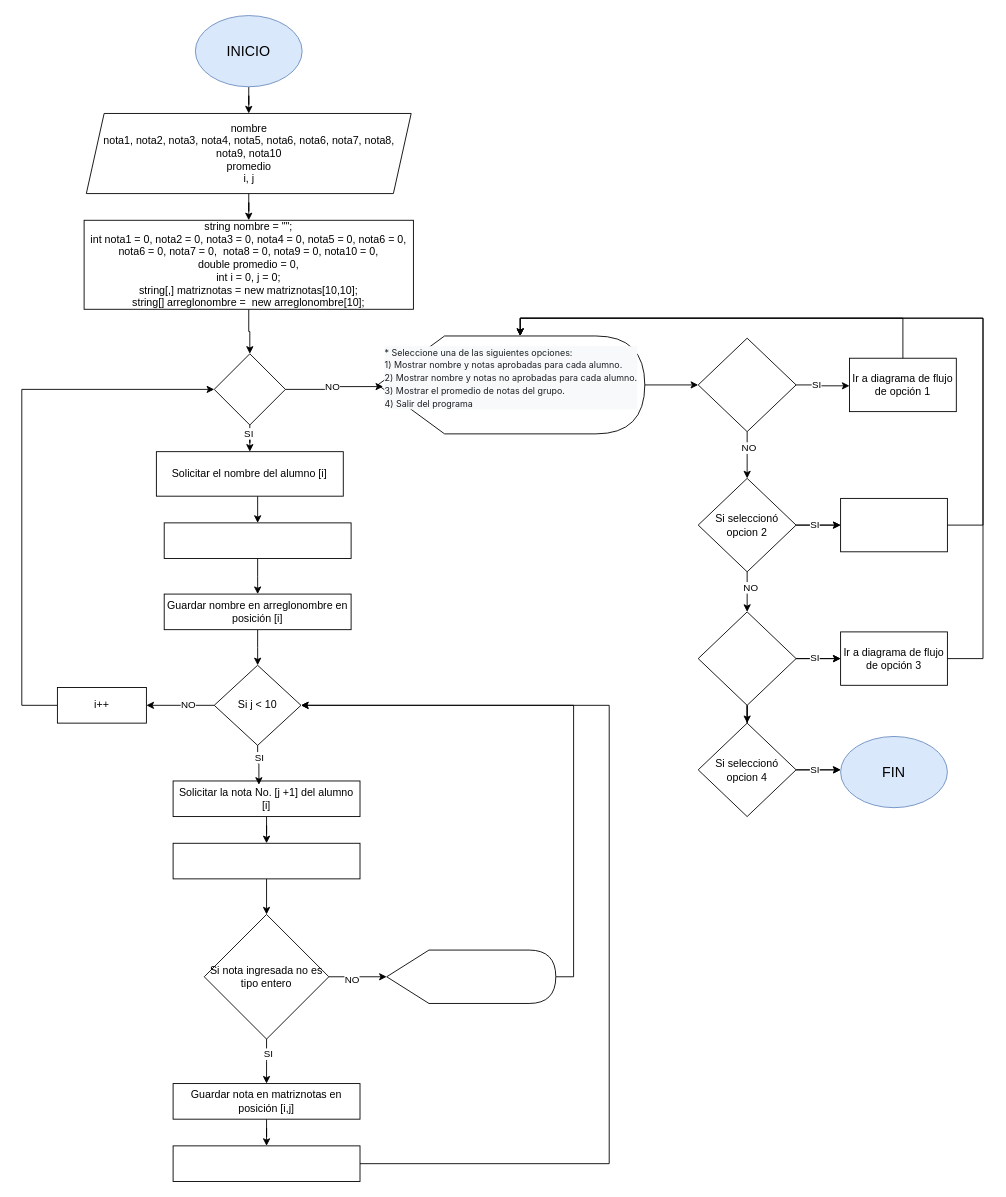
Some shapes in this 1006 by 1197 pixel diagram are drawn without their labels. The shapes that lost their labels are listed below. From the top down, each one's centre as x and y in pixels, then its label:
[249,389]: Si i < 10
[746,384]: Si seleccionó opcion 1
[257,540]: Leer el nombre del alumno [i + 1]
[893,525]: Ir a diagrama de flujo de opción 2
[746,658]: Si seleccionó opcion 3
[266,860]: Leer nota No [j + 1] del alumno [i + 1]
[471,976]: Mostrar mensaje: "Intente de nuevo, ingrese un valor válido"
[266,1163]: j++
